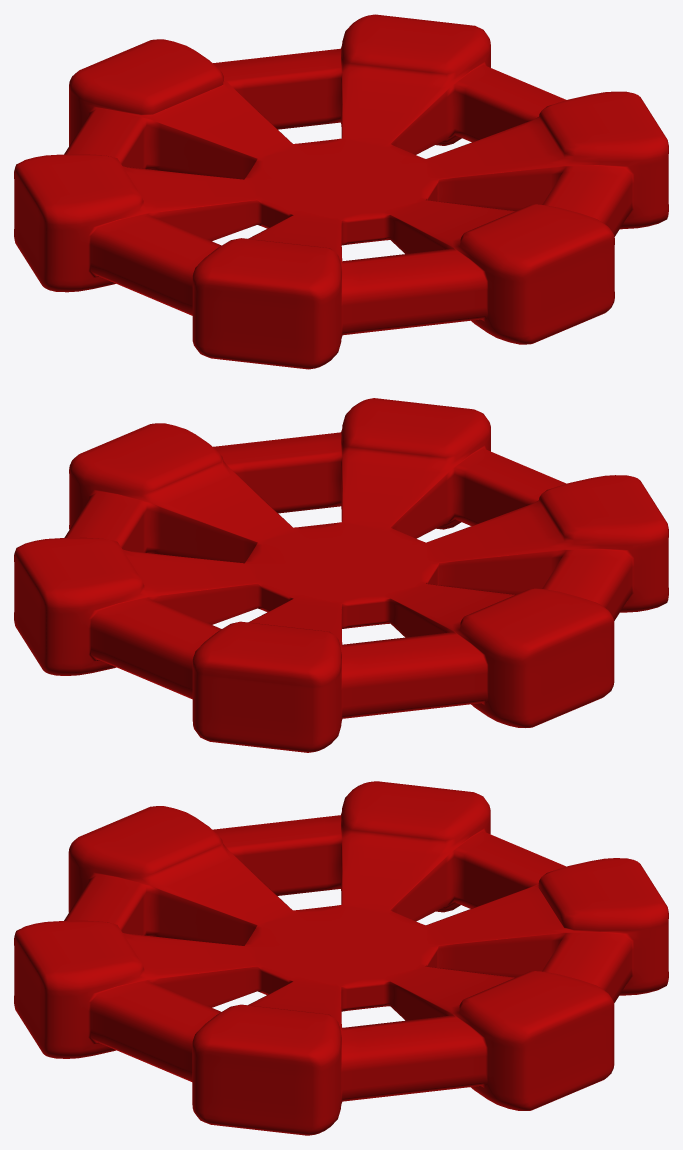
File: ValveRed.fbx
3 views of the same model, one above another, from view 1: azimuth 30°, elevation 25°; view 2: azimuth 150°, elevation 25°; view 3: azimuth 270°, elevation 25° (orthographic).
Parts seen in each view (by area): view 1: pCylinder3; view 2: pCylinder3; view 3: pCylinder3.
Part boxes in pixels (bbox=[...]): pCylinder3: bbox=[14, 14, 668, 369]; pCylinder3: bbox=[14, 398, 668, 752]; pCylinder3: bbox=[14, 781, 668, 1135].
Bounding box in the file's own units: 11.27 × 1.64 × 11.28.
